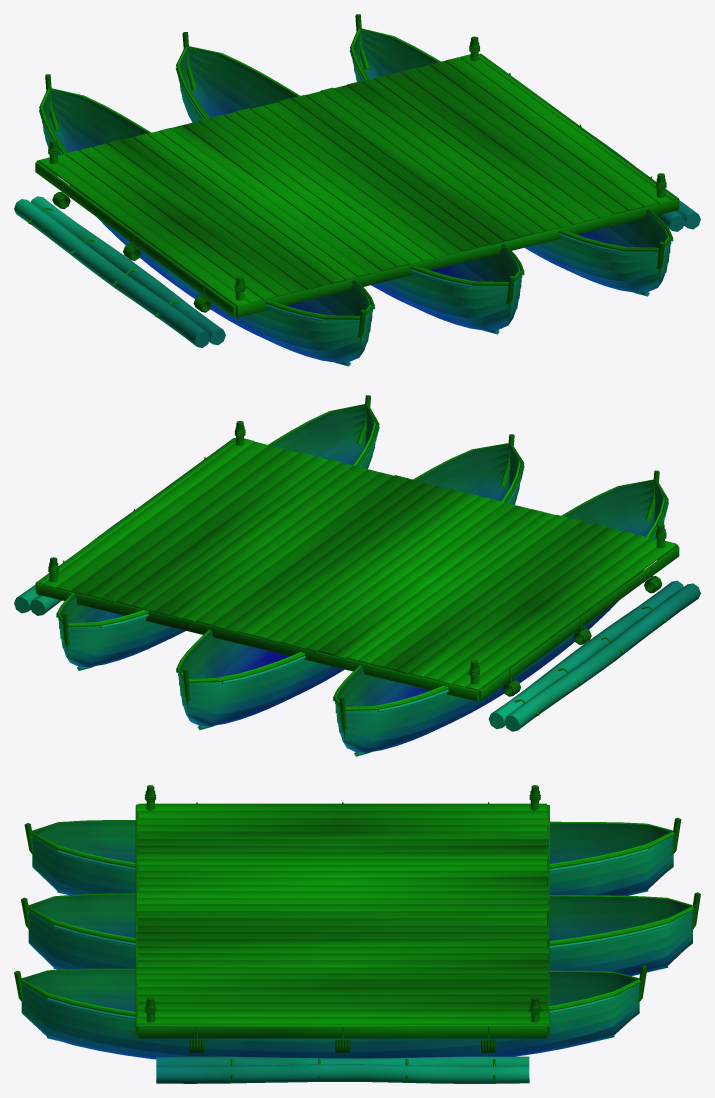
The model's file is raft_deck.glb.
3 views of the same model, one above another, from view 1: azimuth 30°, elevation 25°; view 2: azimuth 150°, elevation 25°; view 3: azimuth 270°, elevation 25° (orthographic). The views are drawn at different scales.
Parts seen in each view (by area): view 1: raft_deck; view 2: raft_deck; view 3: raft_deck.
Part boxes in pixels (x1,y1,x2,y2): raft_deck: [14, 14, 700, 366]; raft_deck: [14, 395, 700, 756]; raft_deck: [14, 785, 700, 1083].
Size of what is drawn, in the model's own units: 10.45 by 1.91 by 11.79.
